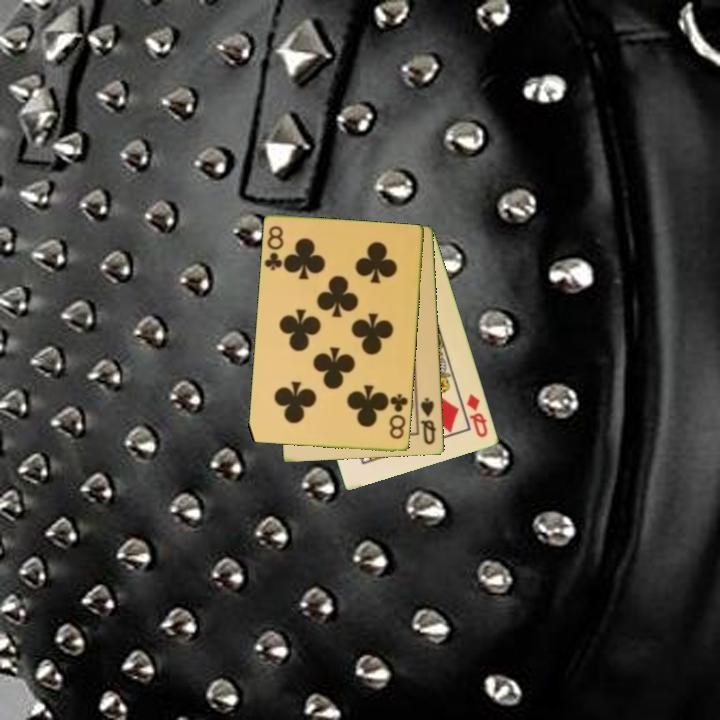8c: (261, 222, 286, 274), (386, 391, 411, 442)
Qd: (463, 390, 491, 441)
Qs: (417, 394, 439, 448)
